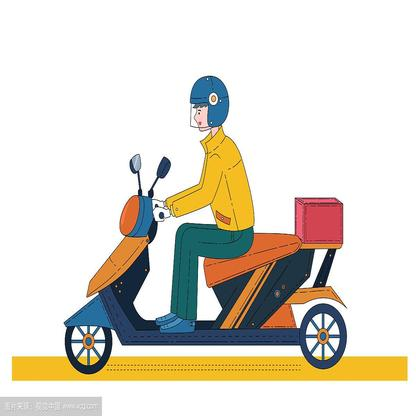target: (62, 71, 353, 375)
